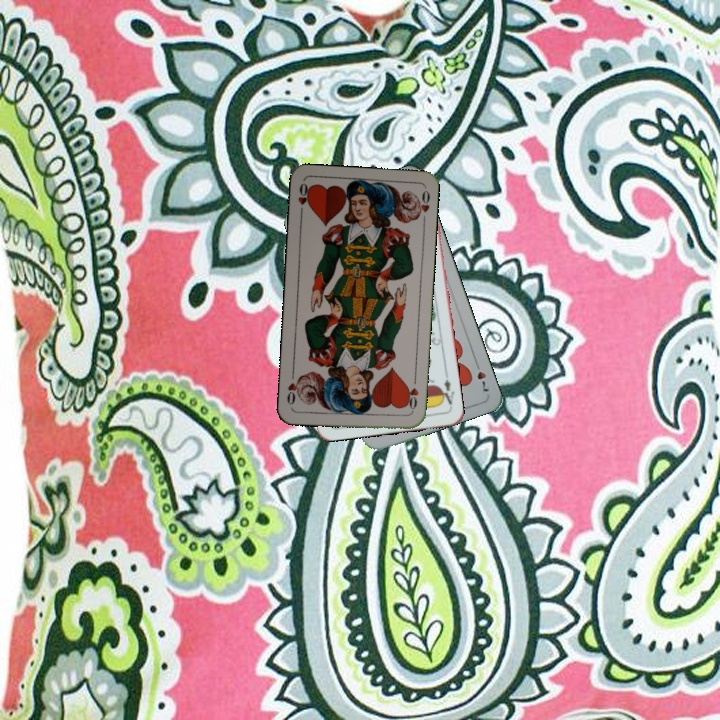EA: (436, 369, 457, 410)
H7: (471, 357, 492, 394)
HO: (402, 374, 421, 415), (294, 179, 313, 220)
